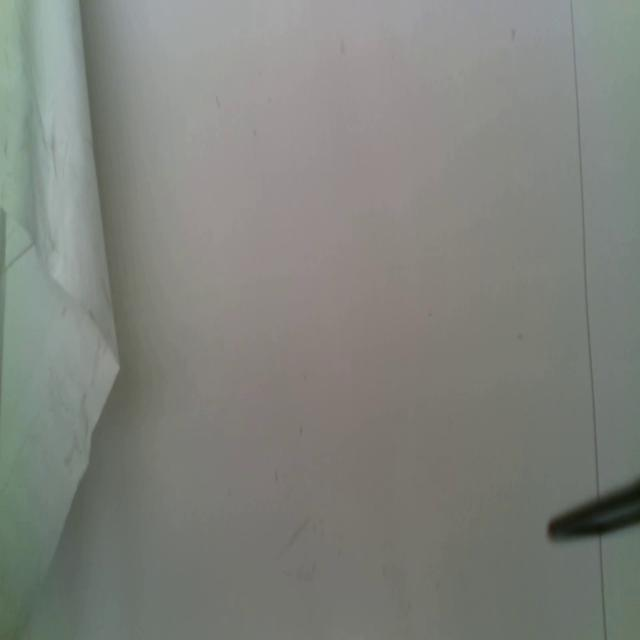crease: (569, 0, 600, 494), (599, 537, 608, 640)
